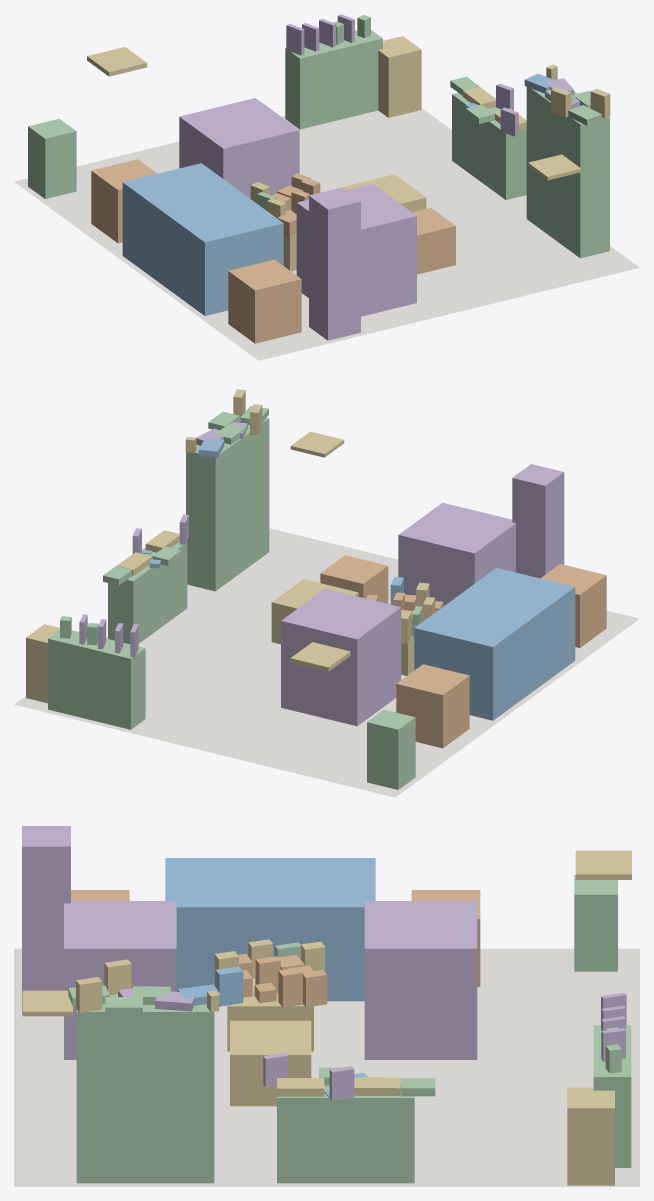
Rendered from layout.glb.
The picture shows the model from 3 angles, top to bottom: view 1: azimuth 30°, elevation 25°; view 2: azimuth 150°, elevation 25°; view 3: azimuth 270°, elevation 25°; orthographic projection. The views are drawn at different scales.
Visible parts, largest first — view 1: room_extent_proxy, obj_0000, obj_0006, obj_0004, obj_0003, obj_0007, obj_0005, obj_0008, obj_0001, obj_0013, obj_0012, obj_0009 (+7 smaller); view 2: room_extent_proxy, obj_0000, obj_0004, obj_0006, obj_0003, obj_0005, obj_0007, obj_0001, obj_0009, obj_0013, obj_0008, obj_0011 (+4 smaller); view 3: room_extent_proxy, obj_0006, obj_0000, obj_0004, obj_0001, obj_0003, obj_0007, obj_0010, obj_0012, obj_0013, obj_0005, obj_0002 (+21 smaller).
Part boxes in pixels (left/top/right/bottom): room_extent_proxy: left=14, top=108, right=639, bottom=360; obj_0000: left=122, top=163, right=283, bottom=315; obj_0006: left=526, top=79, right=609, bottom=258; obj_0004: left=179, top=98, right=299, bottom=198; obj_0003: left=296, top=184, right=416, bottom=316; obj_0007: left=309, top=187, right=360, bottom=340; obj_0005: left=285, top=30, right=382, bottom=129; obj_0008: left=228, top=259, right=301, bottom=343; obj_0001: left=452, top=92, right=526, bottom=199; obj_0013: left=28, top=118, right=76, bottom=198; obj_0012: left=378, top=36, right=421, bottom=117; obj_0009: left=91, top=159, right=157, bottom=243; room_extent_proxy: left=14, top=528, right=639, bottom=797; obj_0000: left=414, top=568, right=575, bottom=720; obj_0004: left=281, top=588, right=401, bottom=726; obj_0006: left=186, top=417, right=269, bottom=591; obj_0003: left=398, top=502, right=515, bottom=606; obj_0005: left=48, top=630, right=145, bottom=729; obj_0007: left=512, top=464, right=564, bottom=578; obj_0001: left=108, top=542, right=187, bottom=644; obj_0009: left=396, top=664, right=469, bottom=748; obj_0013: left=367, top=709, right=415, bottom=789; obj_0008: left=540, top=564, right=606, bottom=647; obj_0011: left=320, top=555, right=388, bottom=603; room_extent_proxy: left=14, top=948, right=639, bottom=1186; obj_0006: left=76, top=994, right=214, bottom=1183; obj_0000: left=165, top=858, right=375, bottom=1001; obj_0004: left=364, top=901, right=477, bottom=1059; obj_0001: left=277, top=1082, right=414, bottom=1183; obj_0003: left=64, top=901, right=176, bottom=1059; obj_0007: left=22, top=826, right=70, bottom=1014; obj_0010: left=230, top=1020, right=311, bottom=1106; obj_0012: left=567, top=1087, right=614, bottom=1185; obj_0013: left=574, top=875, right=617, bottom=971; obj_0005: left=593, top=1025, right=631, bottom=1167; obj_0002: left=227, top=978, right=313, bottom=1051.
Size of the model in its own units: 4.5 by 1.76 by 5.
